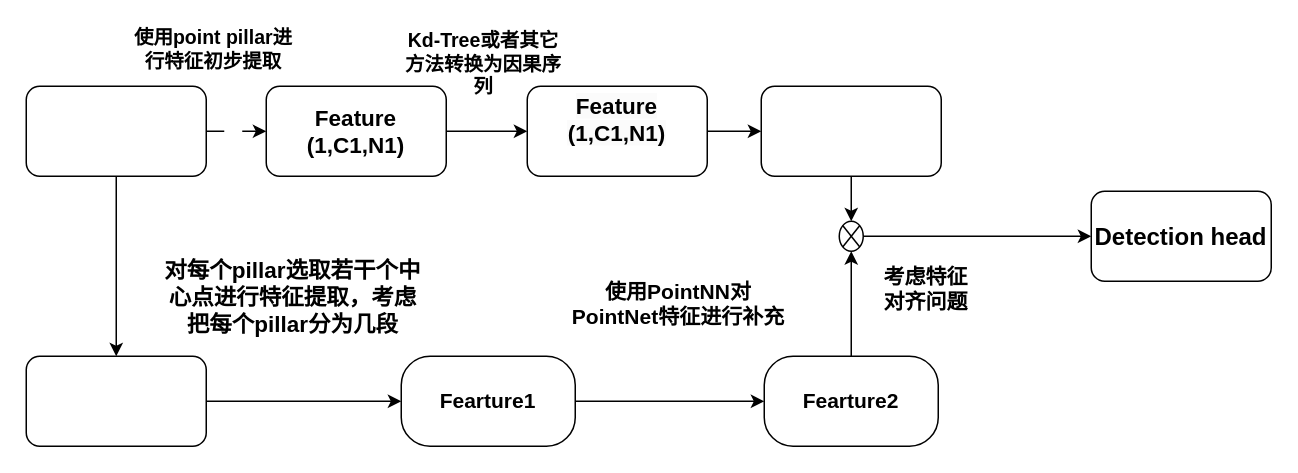
Image size: 1298x473. Some labels were removed from this diagram. The centre of each missing label's shape, as x and y in pixels:
Mamba * N: point 850,130
point cloud: point 115,130
PointNet++: point 115,400
